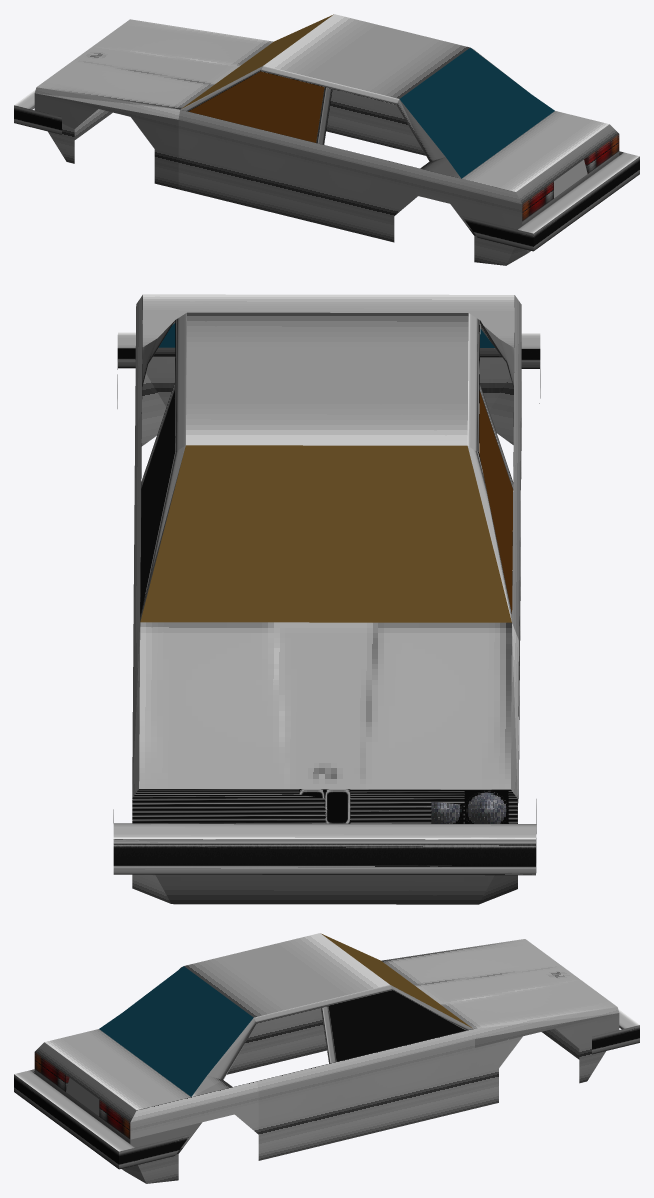
The model's file is primary_019.glb.
3 views of the same model, one above another, from view 1: azimuth 30°, elevation 25°; view 2: azimuth 150°, elevation 25°; view 3: azimuth 270°, elevation 25° (orthographic). The views are drawn at different scales.
Visible parts, largest first — view 1: Object; view 2: Object; view 3: Object.
Part boxes in pixels (<box>): Object: <box>14,14,639,265</box>; Object: <box>113,294,540,904</box>; Object: <box>14,933,639,1183</box>.
Size of the model in its own units: 0.7078 by 0.2138 by 0.9198.
37 materials, 37 textured.
